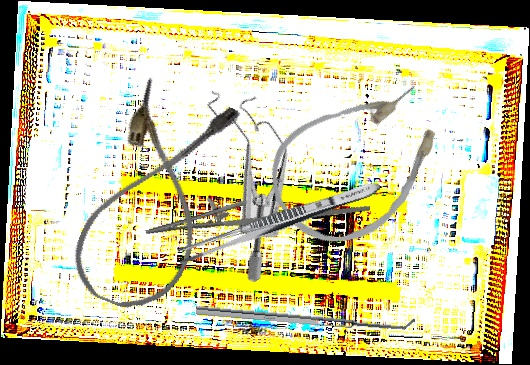Cannula: (248, 56, 471, 269), (61, 73, 247, 324)
Dressing Forceps: (175, 176, 383, 268)
Needle Holder: (141, 162, 371, 262)
Spatula Surgical: (195, 297, 416, 334)
Speculum: (150, 71, 343, 286)
